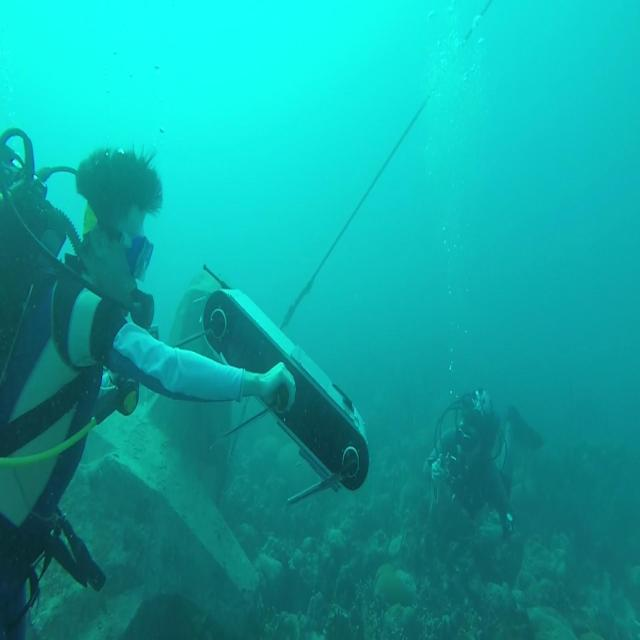human: (0, 127, 297, 638), (423, 385, 543, 541)
